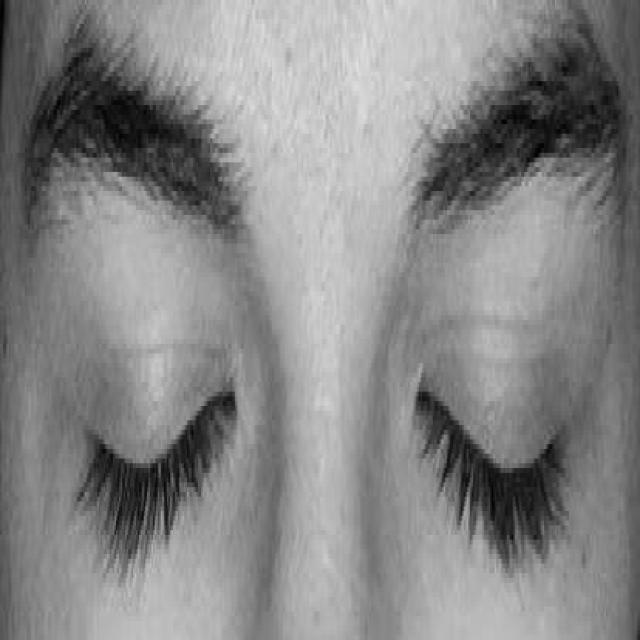real: (53, 190, 614, 598)
